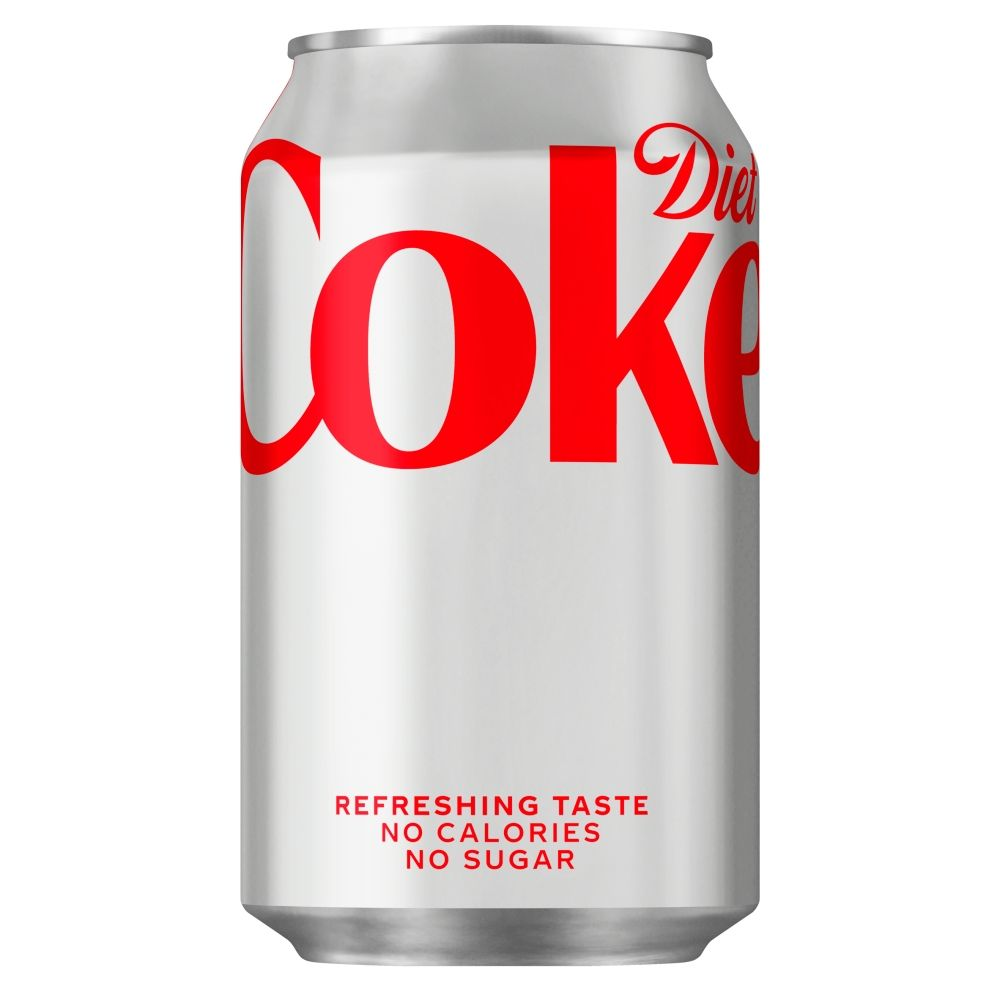cylinder: (242, 24, 760, 967)
